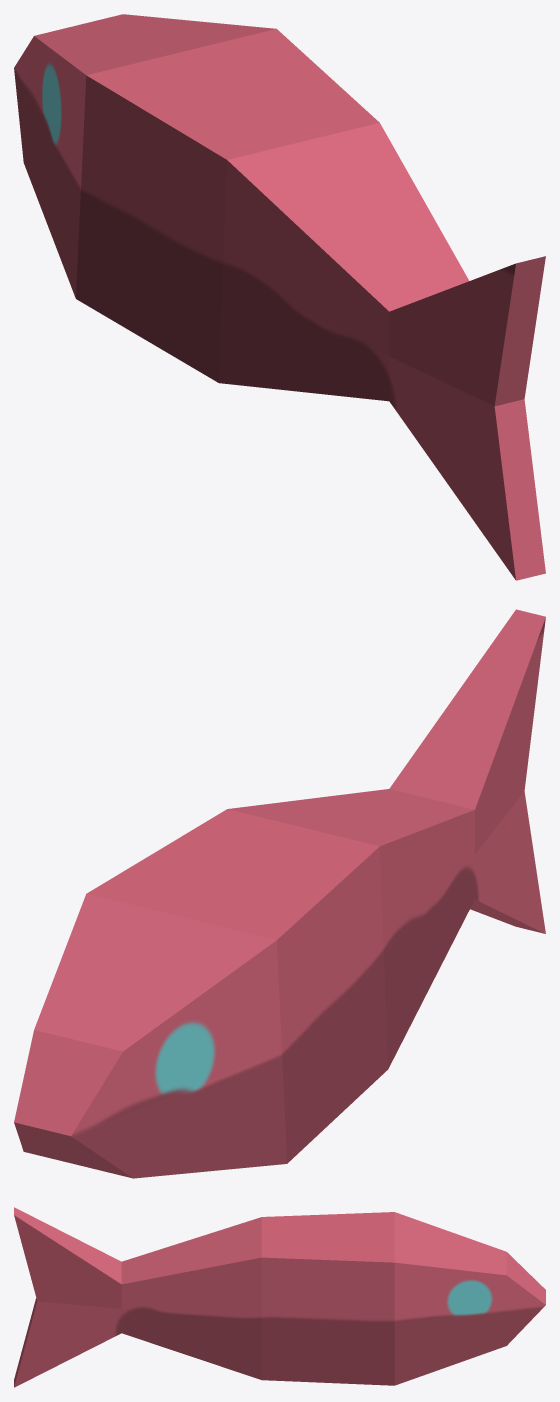
Rendered from lukefish1.glb.
3 renders of one model, top to bottom at view 1: azimuth 30°, elevation 25°; view 2: azimuth 150°, elevation 25°; view 3: azimuth 270°, elevation 25°, orthographic. The views are drawn at different scales.
Visible parts, largest first — view 1: Cube; view 2: Cube; view 3: Cube.
Boxes of the visible parts, box(x1,y1,x2,y2) form: Cube: box(14, 14, 545, 580); Cube: box(14, 609, 545, 1178); Cube: box(14, 1207, 545, 1387).
Size of the model in its own units: 2 by 2.87 by 8.01.
Materials: 1 (1 with a texture image).
